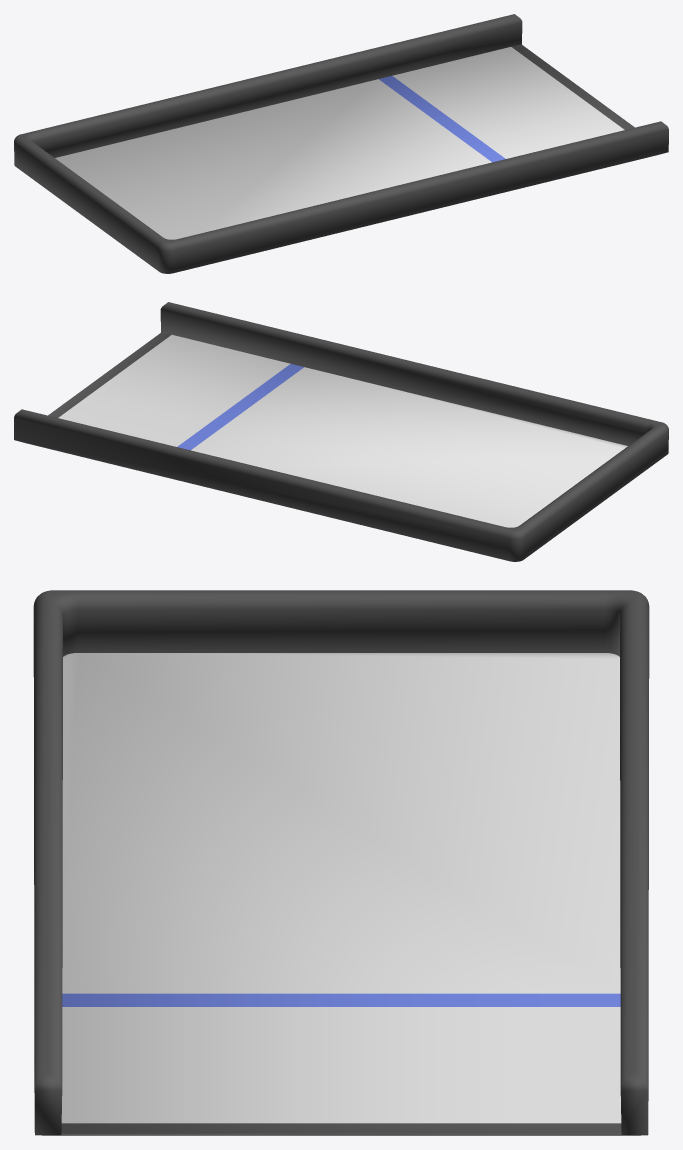
Rendered from Platform.fbx.
3 renders of one model, top to bottom at view 1: azimuth 30°, elevation 25°; view 2: azimuth 150°, elevation 25°; view 3: azimuth 270°, elevation 25°, orthographic. The views are drawn at different scales.
Parts seen in each view (by area): view 1: Plane; view 2: Plane; view 3: Plane.
Part boxes in pixels (box(x1,y1,x2,y2)): Plane: box(14, 14, 668, 273); Plane: box(14, 302, 668, 561); Plane: box(33, 590, 649, 1135).
Size of the model in its own units: 402 by 22 by 212.
